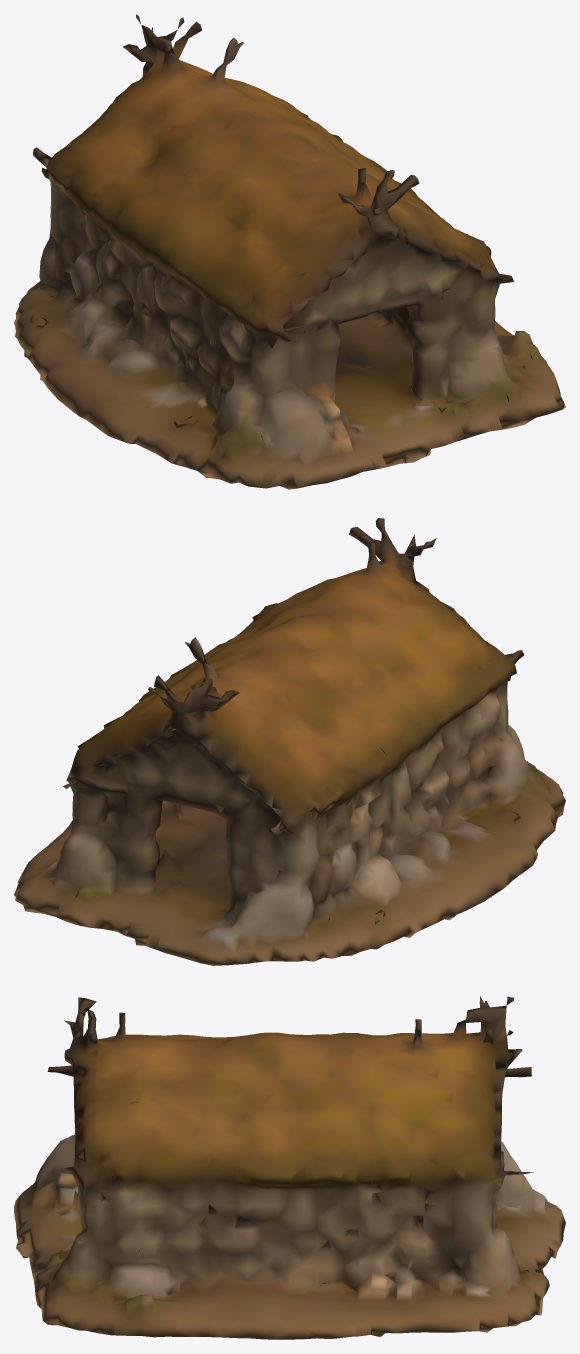
Rendered from steinhaus.glb.
The picture shows the model from 3 angles, top to bottom: view 1: azimuth 30°, elevation 25°; view 2: azimuth 150°, elevation 25°; view 3: azimuth 270°, elevation 25°; orthographic projection. The views are drawn at different scales.
Bounding box in the file's own units: 1.59 × 0.9871 × 1.98.
